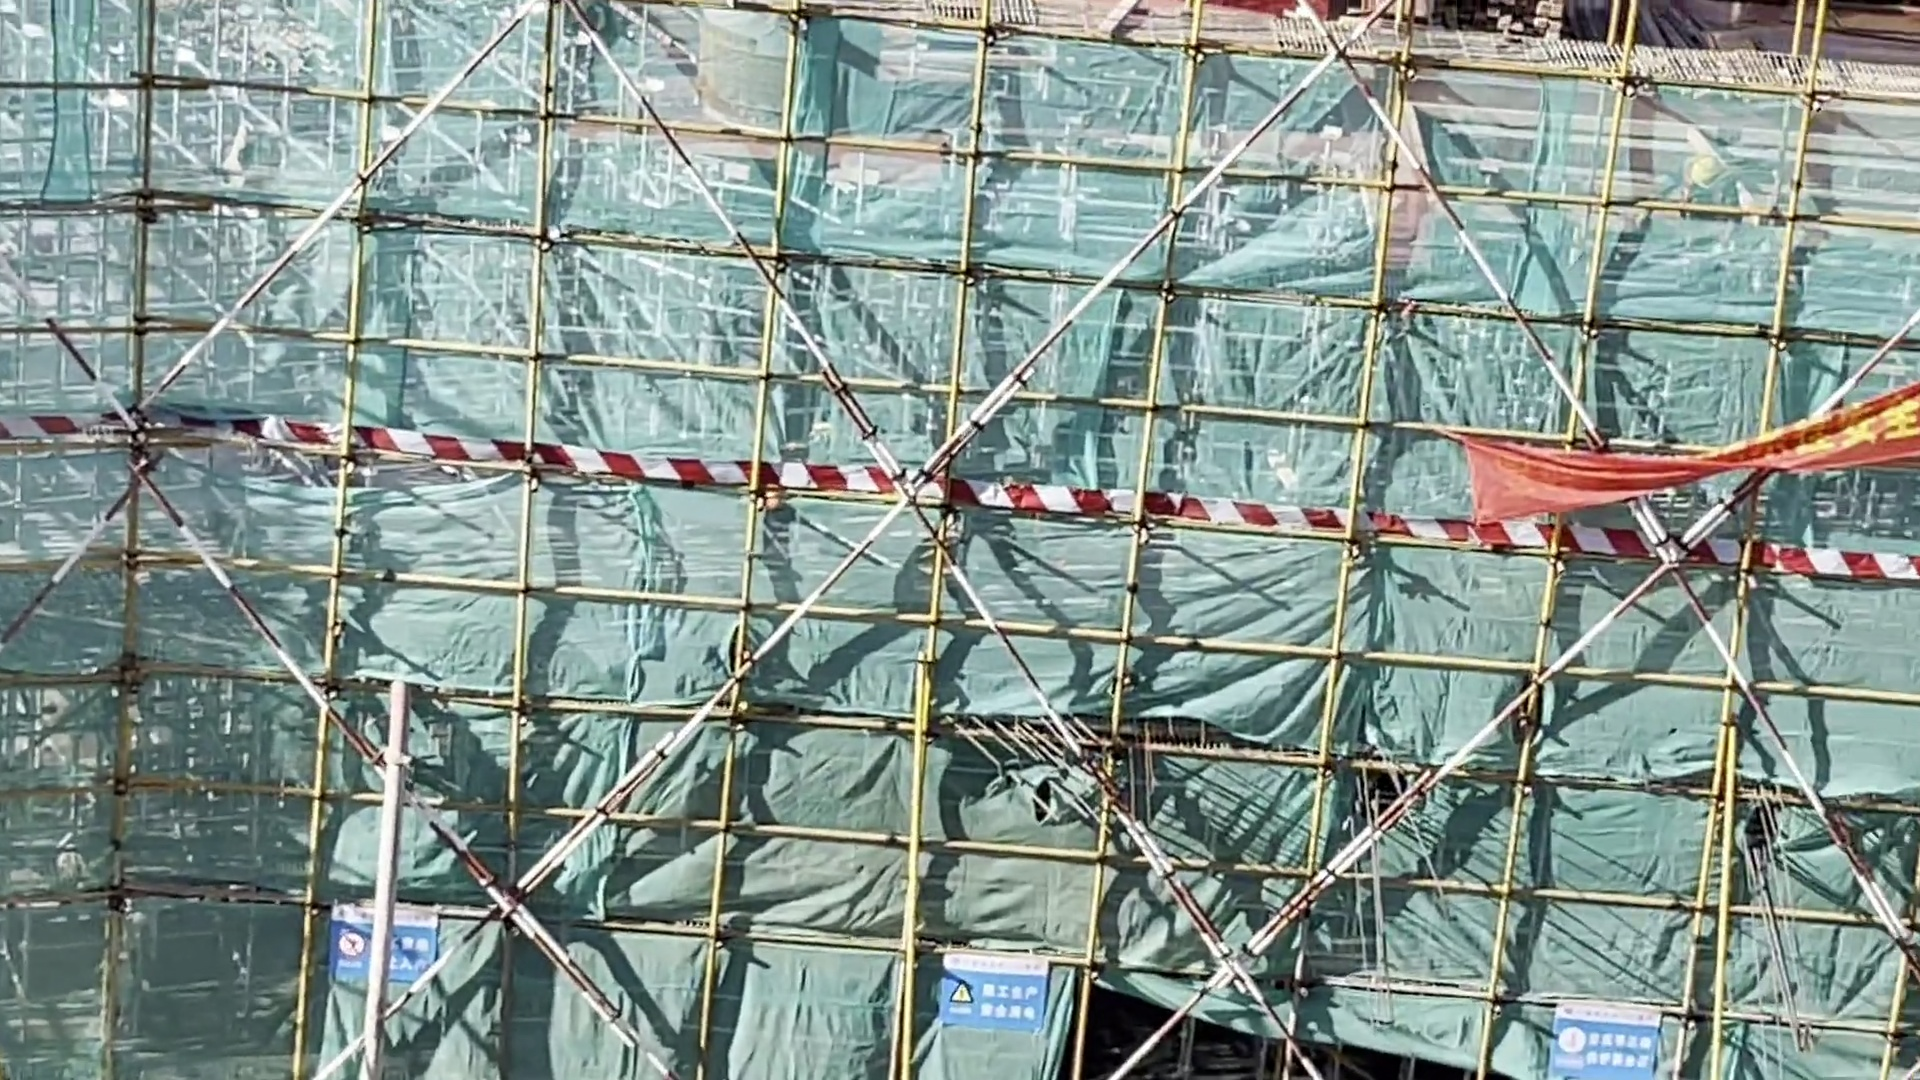slogan: (1433, 280, 1920, 553), (914, 909, 1077, 1060), (1540, 953, 1668, 1080), (326, 880, 462, 996)
